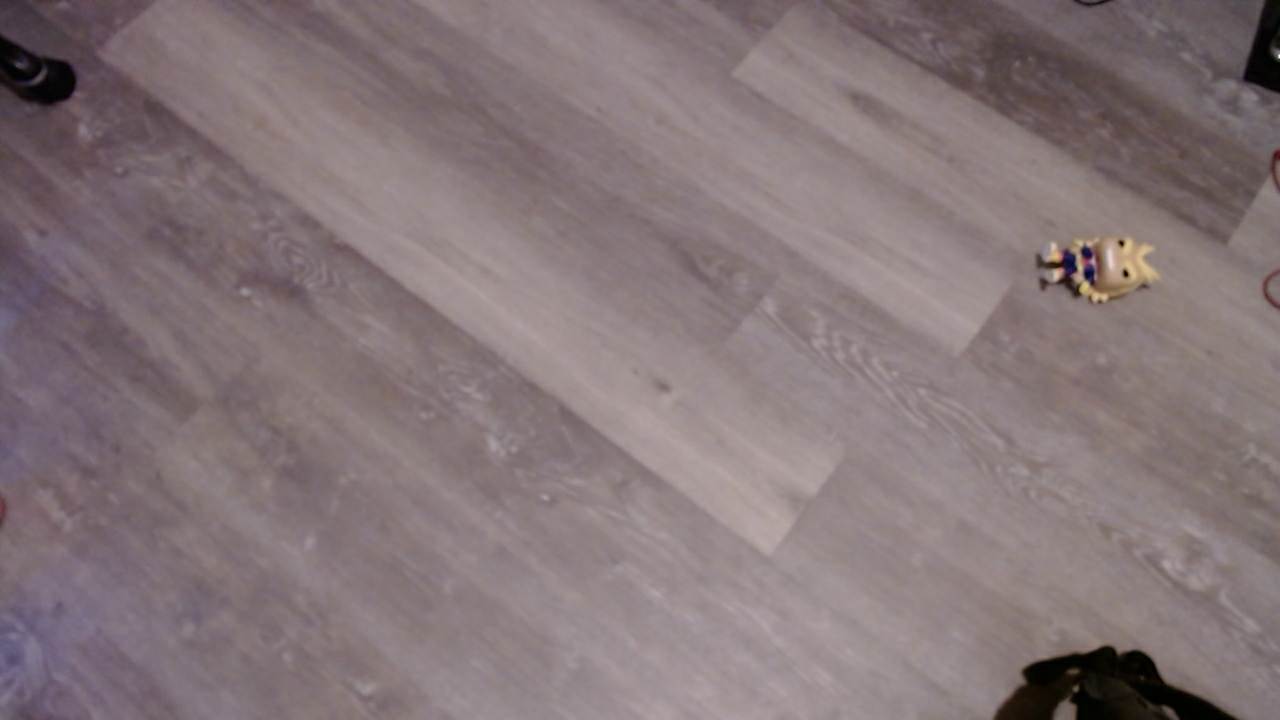all_might: (1035, 233, 1163, 313)
